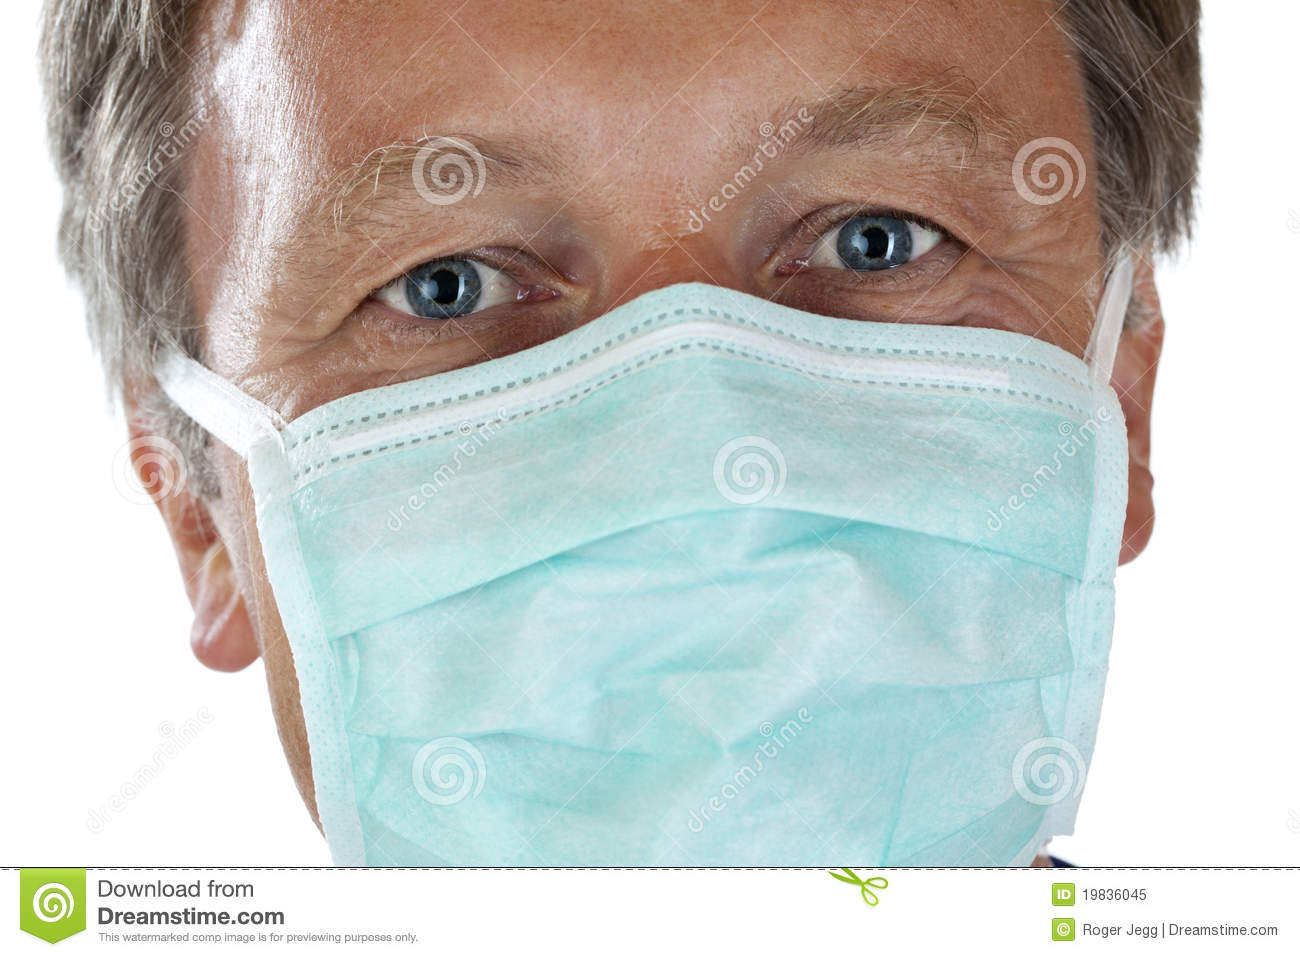mask: (247, 286, 1134, 871)
